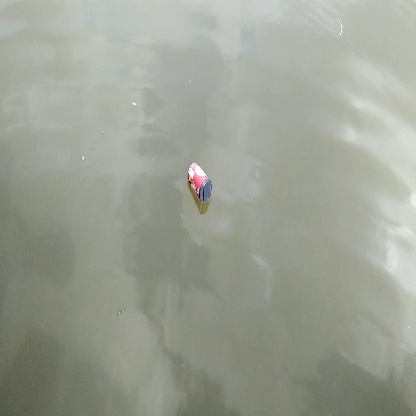bottle: (183, 158, 218, 208)
